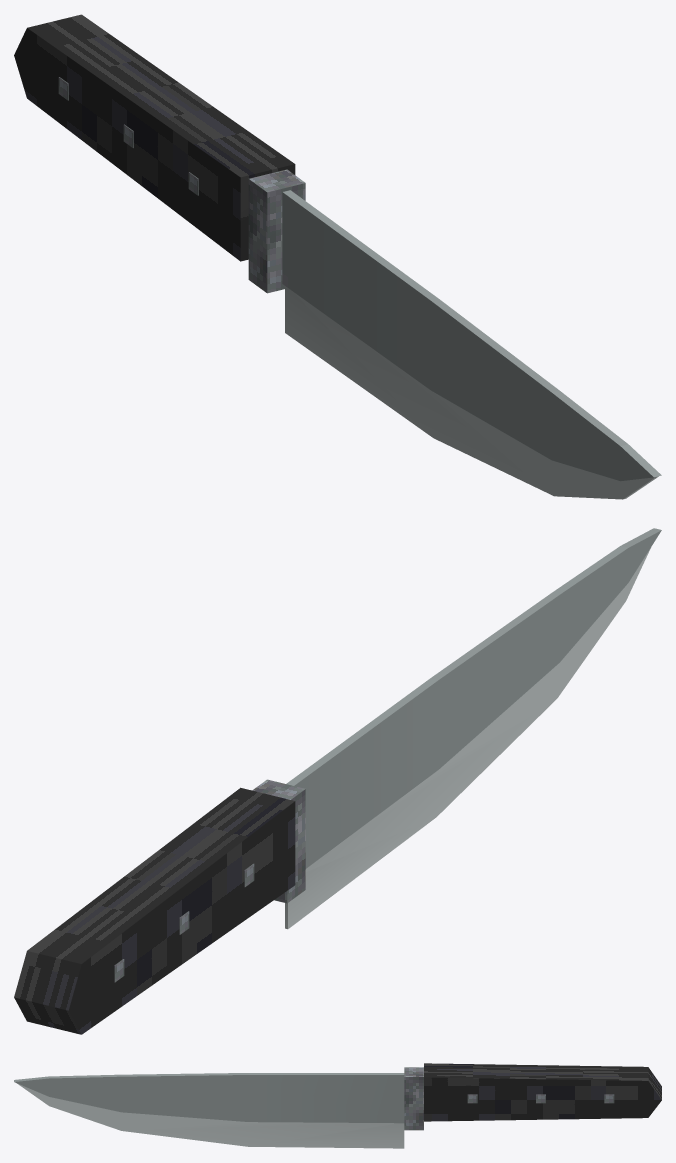
The model's file is kitchen_knife.glb.
3 views of the same model, one above another, from view 1: azimuth 30°, elevation 25°; view 2: azimuth 150°, elevation 25°; view 3: azimuth 270°, elevation 25° (orthographic). The views are drawn at different scales.
Parts seen in each view (by area): view 1: kitchen_knife; view 2: kitchen_knife; view 3: kitchen_knife.
Boxes of the visible parts, x1=… form: kitchen_knife: x1=14, y1=14, x2=661, y2=499; kitchen_knife: x1=14, y1=528, x2=661, y2=1034; kitchen_knife: x1=14, y1=1063, x2=661, y2=1148.
Size of the model in its own units: 0.0175 by 0.044 by 0.332.
Materials: 1 (1 with a texture image).
